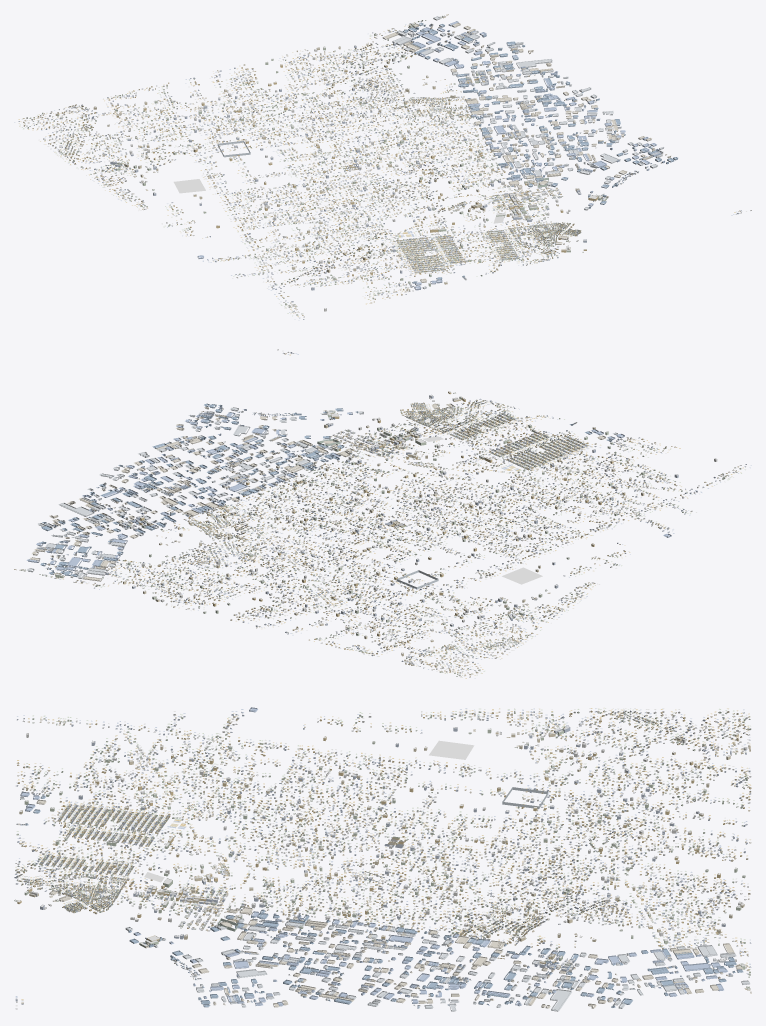
The picture shows the model from 3 angles, top to bottom: view 1: azimuth 30°, elevation 25°; view 2: azimuth 150°, elevation 25°; view 3: azimuth 270°, elevation 25°; orthographic projection. The views are drawn at different scales.
Visible parts, largest first — view 1: house, roof_zinc, factory, apartment, roof_flat; view 2: house, roof_zinc, factory, apartment, roof_flat; view 3: house, roof_zinc, factory, apartment, roof_flat.
Part boxes in pixels (<box>): house: <box>18,20,751,319</box>; roof_zinc: <box>14,16,746,320</box>; factory: <box>197,16,677,290</box>; apartment: <box>55,14,607,311</box>; roof_flat: <box>56,14,606,308</box>; house: <box>39,349,746,677</box>; roof_zinc: <box>26,350,751,678</box>; factory: <box>28,403,671,581</box>; apartment: <box>14,391,717,667</box>; roof_flat: <box>14,391,716,665</box>; house: <box>14,710,751,1009</box>; roof_zinc: <box>14,707,750,1011</box>; factory: <box>16,707,749,1011</box>; apartment: <box>14,726,751,993</box>; roof_flat: <box>14,726,751,992</box>.
Bounding box in the file's own units: 1.42e+08 × 737506 × 1.45e+08.
